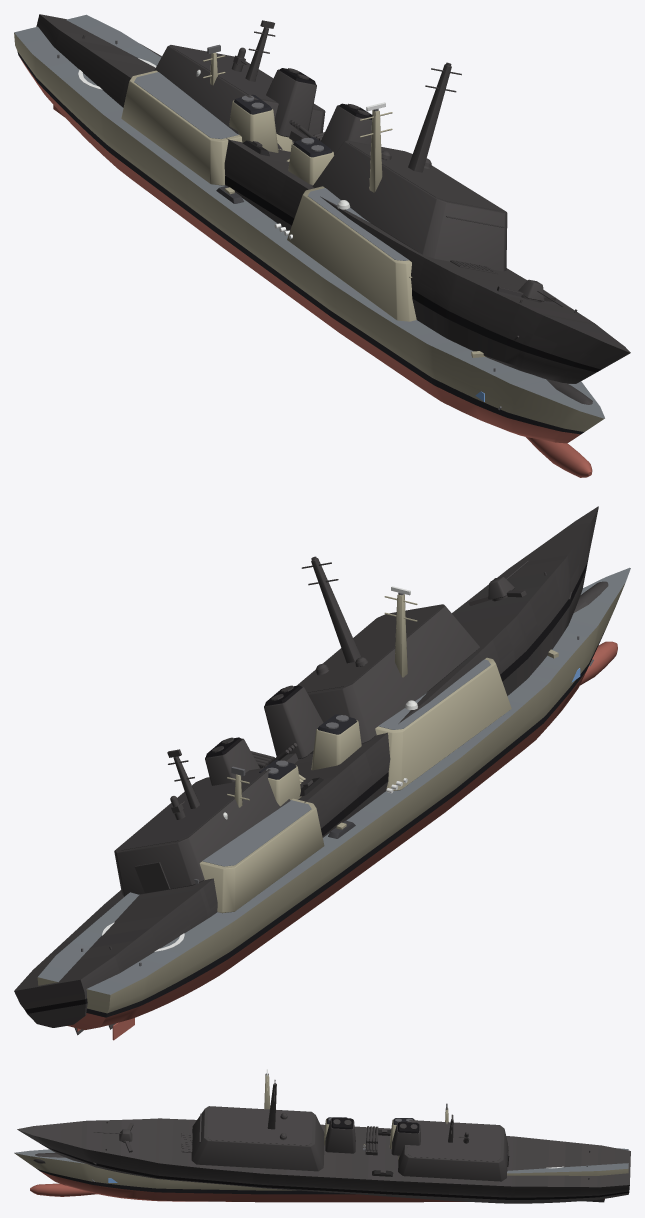
The model's file is destroyer__akizuki_class.glb.
The picture shows the model from 3 angles, top to bottom: view 1: azimuth 30°, elevation 25°; view 2: azimuth 150°, elevation 25°; view 3: azimuth 270°, elevation 25°; orthographic projection. The views are drawn at different scales.
Parts seen in each view (by area): view 1: Hull_Mesh, Wreck; view 2: Wreck, Hull_Mesh; view 3: Wreck, Hull_Mesh.
Part boxes in pixels (x1,y1,x2,y2): Hull_Mesh: (14,14,604,477); Wreck: (36,14,630,404); Wreck: (14,506,608,1035); Hull_Mesh: (37,567,630,1040); Wreck: (17,1080,630,1203); Hull_Mesh: (14,1074,628,1202).
Size of what is drawn, in the model's own units: 24.25 by 38.28 by 158.
